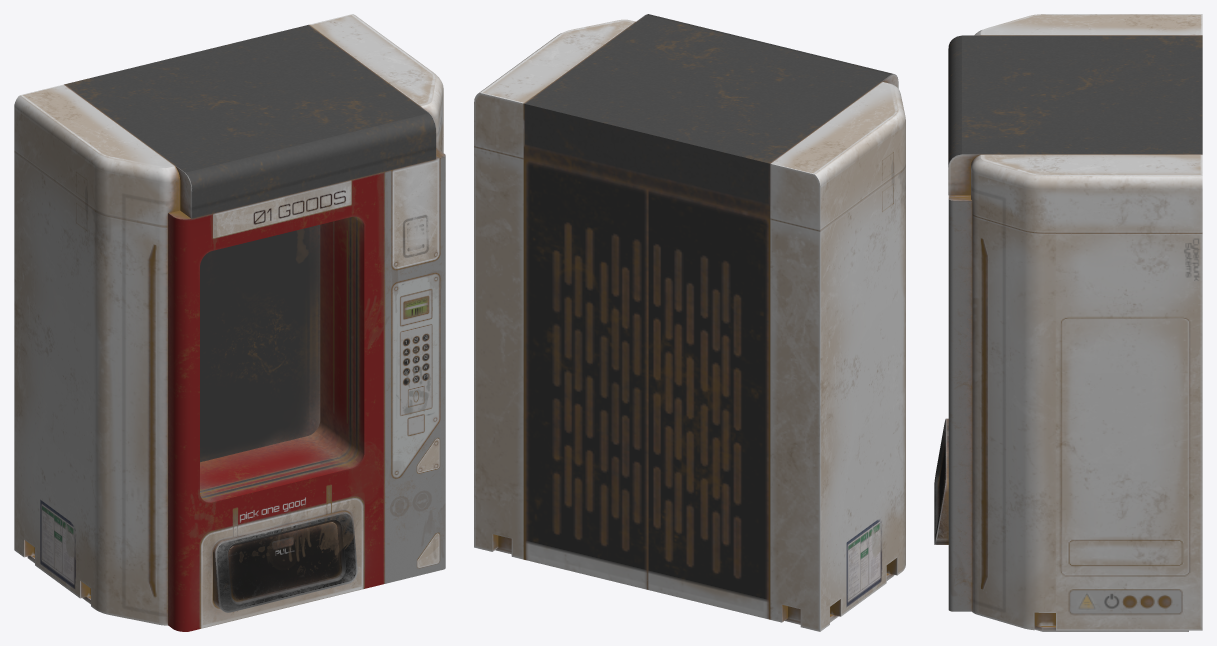
Rendered from uploads_files_2135669_SM_VendingMachine03.FBX.
The picture shows the model from 3 angles, left to right: view 1: azimuth 30°, elevation 25°; view 2: azimuth 150°, elevation 25°; view 3: azimuth 270°, elevation 25°; orthographic projection.
Visible parts, largest first — view 1: SM_VendingMachine003; view 2: SM_VendingMachine003; view 3: SM_VendingMachine003.
Part boxes in pixels (box(x1,y1,x2,y2)): SM_VendingMachine003: box(14, 14, 445, 631); SM_VendingMachine003: box(474, 14, 905, 631); SM_VendingMachine003: box(934, 14, 1202, 631).
Bounding box in the file's own units: 183 × 232 × 124.
